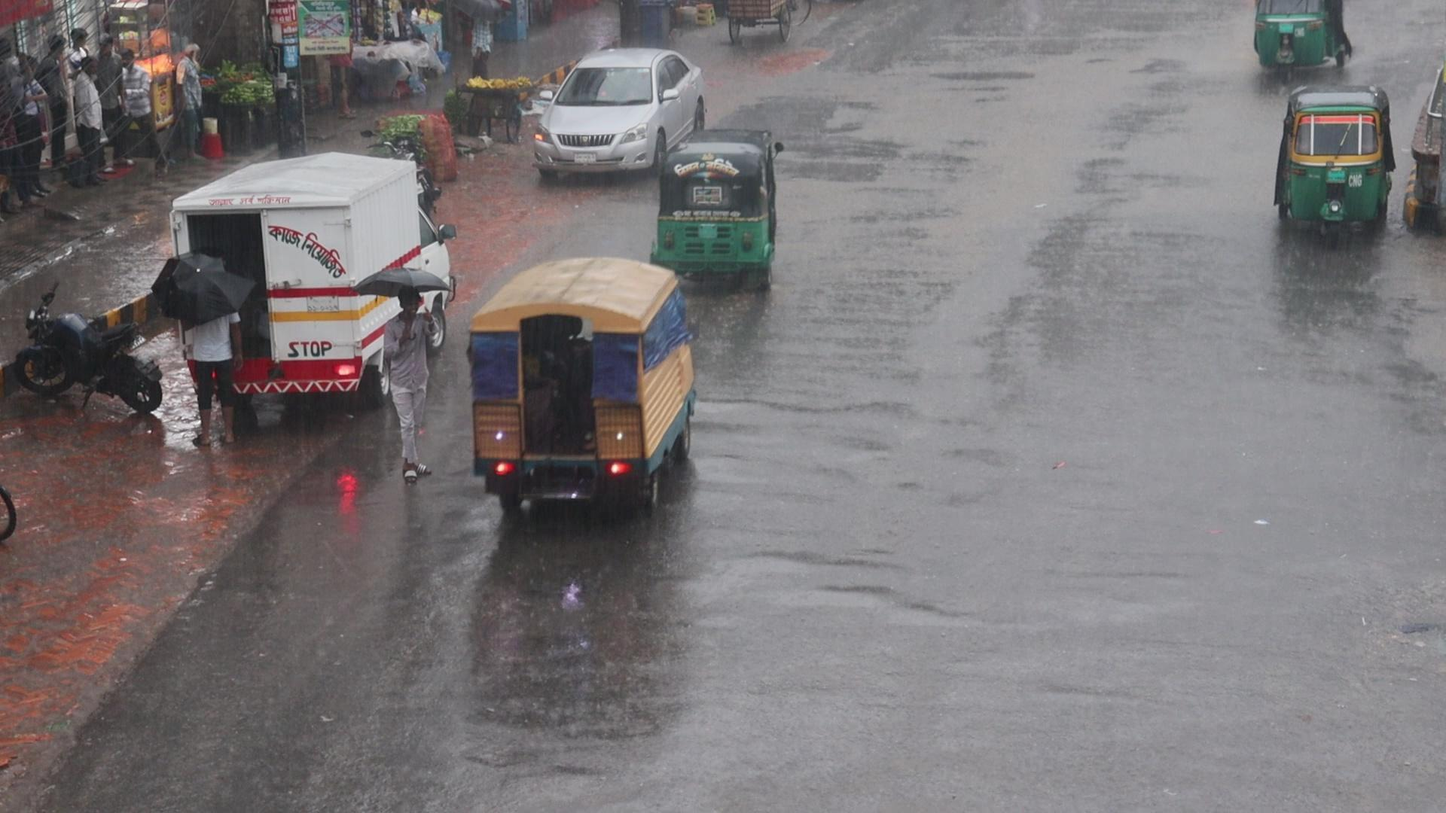Car: (531, 46, 710, 171)
Truck: (465, 252, 698, 518)
